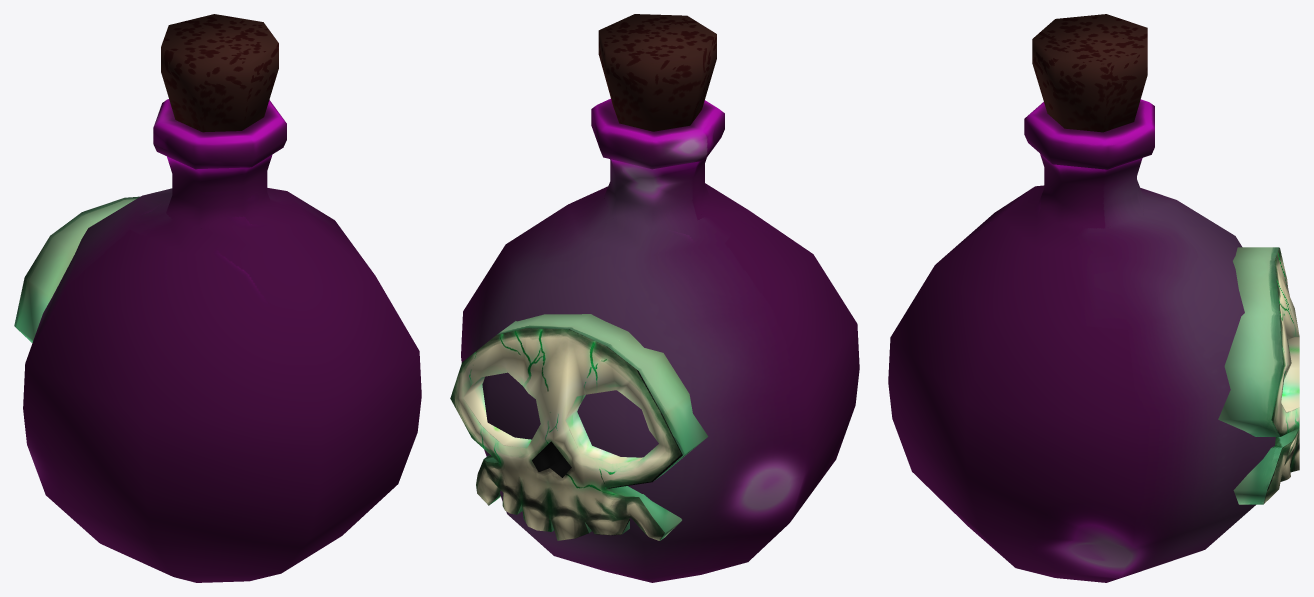
File: poison.obj
3 renders of one model, left to right at view 1: azimuth 30°, elevation 25°; view 2: azimuth 150°, elevation 25°; view 3: azimuth 270°, elevation 25°, orthographic.
Parts seen in each view (by area): view 1: Circle; view 2: Circle; view 3: Circle.
Part boxes in pixels (x1=…): Circle: x1=14, y1=14, x2=421, y2=582; Circle: x1=450, y1=14, x2=859, y2=582; Circle: x1=888, y1=14, x2=1299, y2=582.
Bounding box in the file's own units: 0.1507 × 0.216 × 0.1553.
